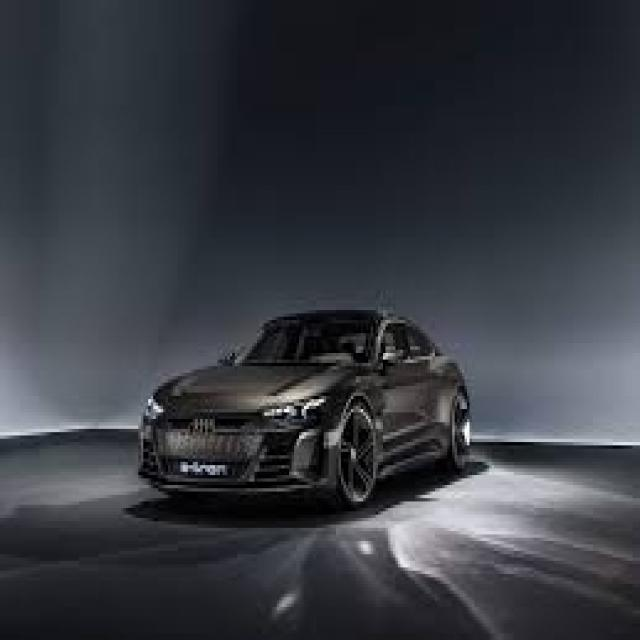black: (128, 300, 484, 499)
